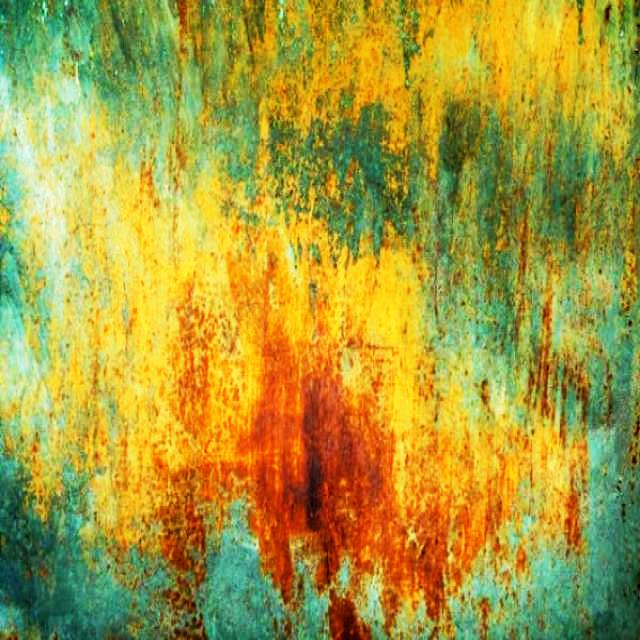Corrosion: (87, 180, 567, 640)
